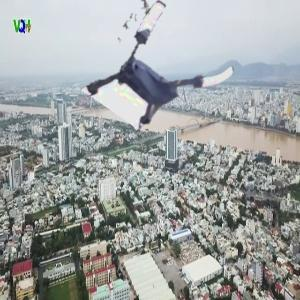drone: (104, 11, 230, 137)
